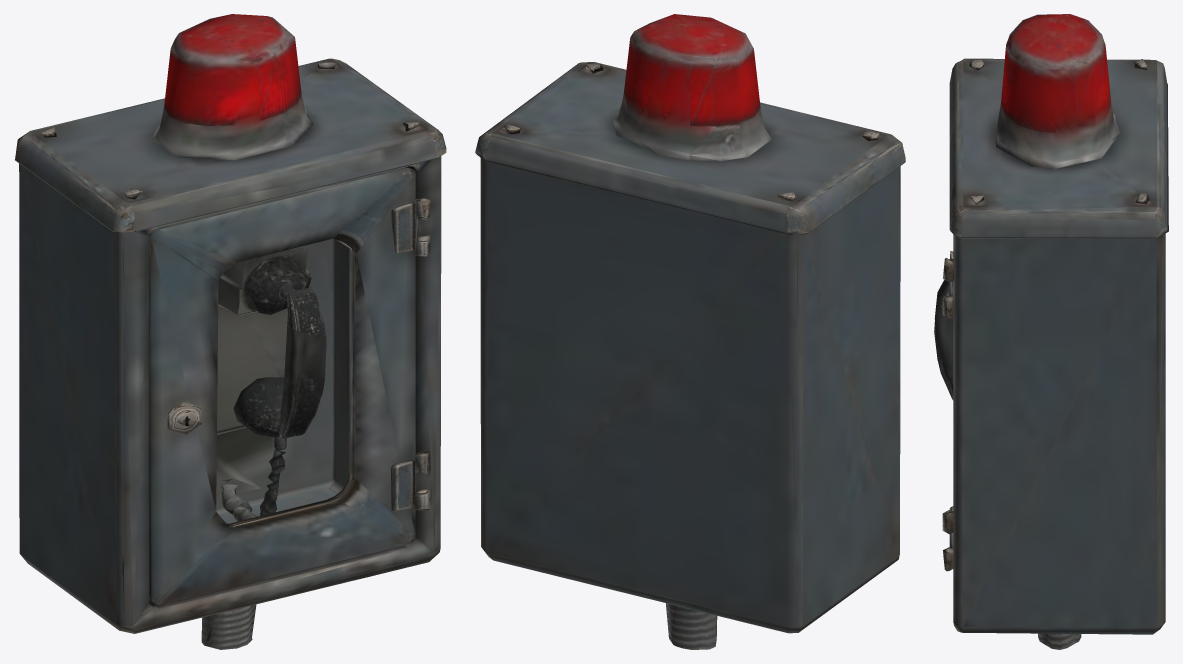
The model's file is p7-field-phone-box-t25.glb.
3 renders of one model, left to right at view 1: azimuth 30°, elevation 25°; view 2: azimuth 150°, elevation 25°; view 3: azimuth 270°, elevation 25°, orthographic.
Parts seen in each view (by area): view 1: p7-field-phone-box-t25; view 2: p7-field-phone-box-t25; view 3: p7-field-phone-box-t25.
Part boxes in pixels (box(x1,y1,x2,y2)): p7-field-phone-box-t25: box(15, 14, 446, 649); p7-field-phone-box-t25: box(475, 14, 905, 649); p7-field-phone-box-t25: box(934, 14, 1168, 649).
Size of the model in its own units: 0.284 by 0.5 by 0.174.
Materials: 1 (1 with a texture image).
